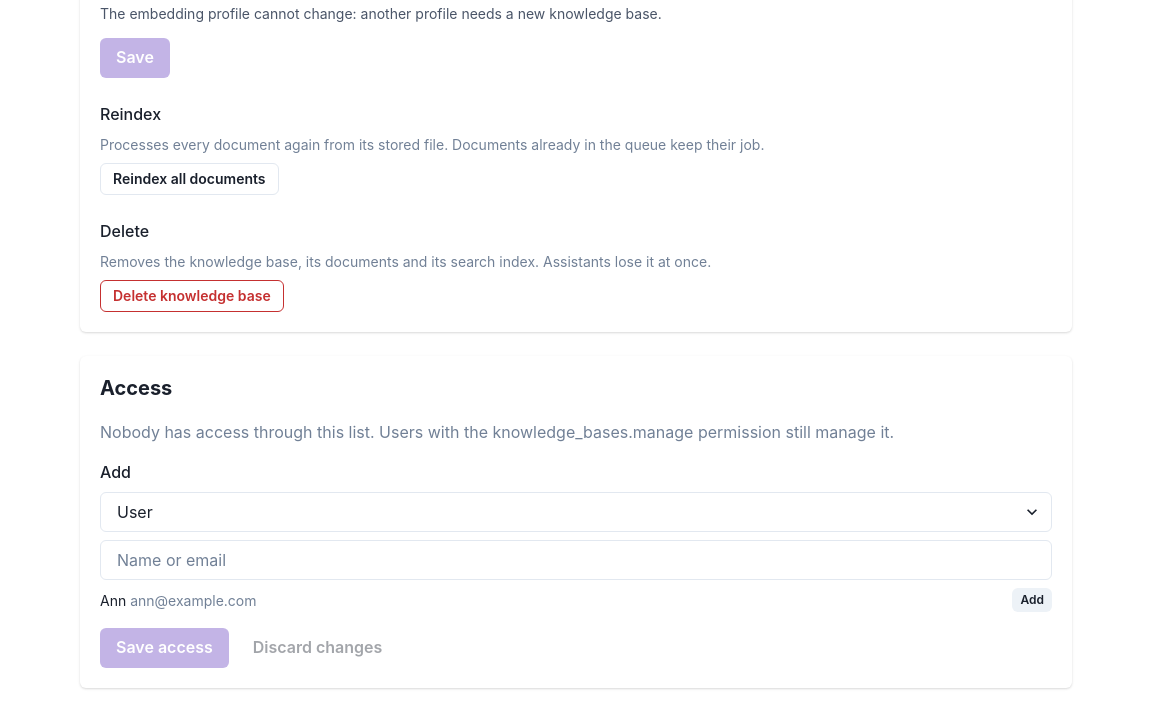
Test case: knowledge base access › shows the user search to users.read and leaves disabled users out
(page scrolled)
Type "a" into the field named "Find a user" at (576, 560), box [100,540,1052,580]
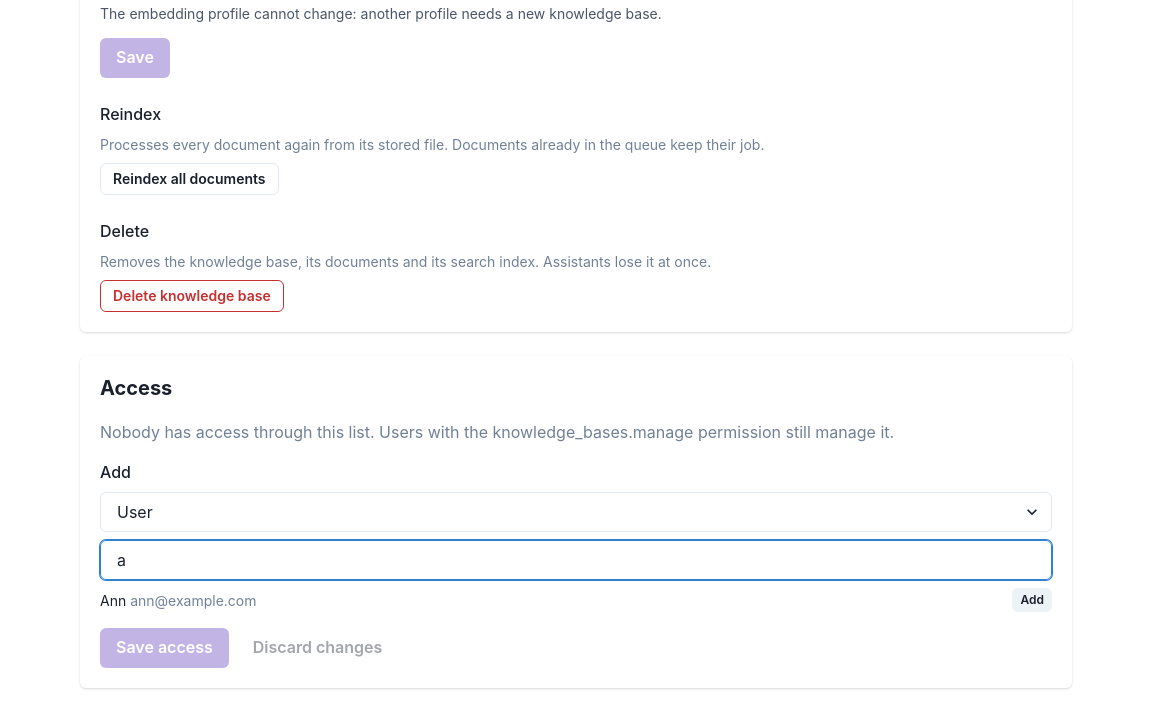
Expected: the text "Ann" is shown, [100,592,126,608]
Click the button with aria-label "Add Ann" at (1032, 600), box [1012,588,1052,612]
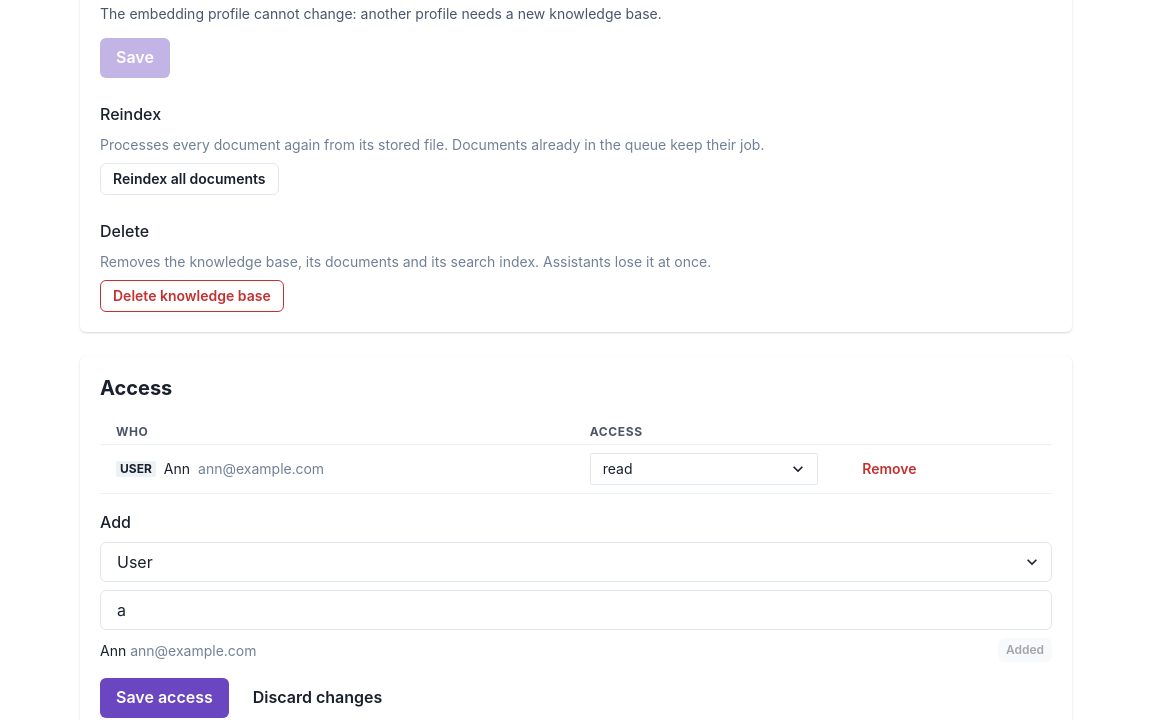
Now the dropdown named "Access of Ann" shows "read", box [590,453,818,485]
